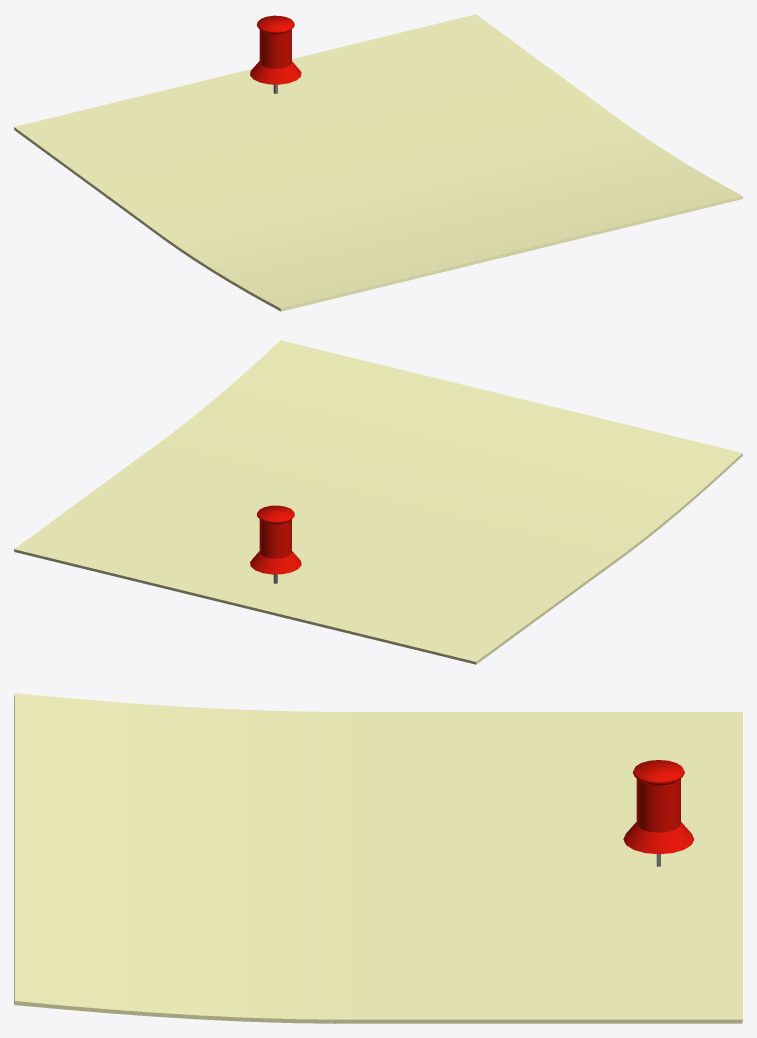
Rendered from post-it.gltf.
The picture shows the model from 3 angles, top to bottom: view 1: azimuth 30°, elevation 25°; view 2: azimuth 150°, elevation 25°; view 3: azimuth 270°, elevation 25°; orthographic projection. The views are drawn at different scales.
Visible parts, largest first — view 1: Post-it, Push-pin; view 2: Post-it, Push-pin; view 3: Post-it, Push-pin.
Boxes of the visible parts, x1=… form: Post-it: x1=14, y1=14, x2=742, y2=311; Push-pin: x1=250, y1=15, x2=301, y2=93; Post-it: x1=14, y1=340, x2=742, y2=664; Push-pin: x1=250, y1=505, x2=301, y2=583; Post-it: x1=14, y1=693, x2=742, y2=1023; Push-pin: x1=623, y1=760, x2=694, y2=866.
Size of the model in its own units: 3 by 0.4516 by 3.
3 materials, 1 textured.
